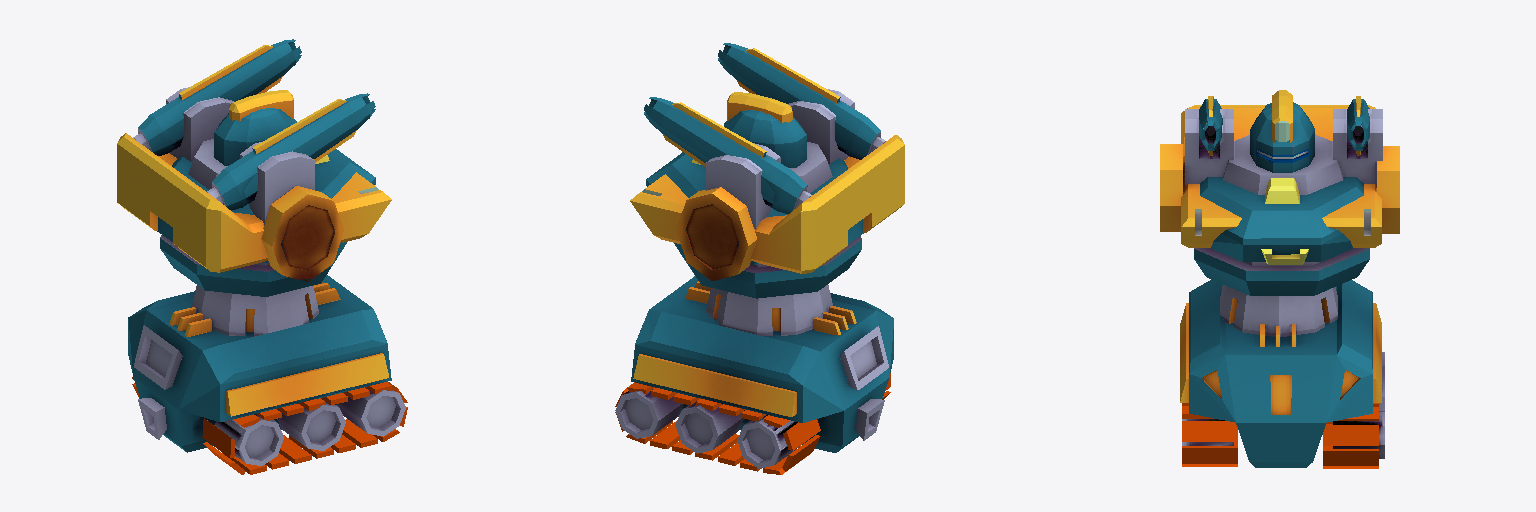
3 views of the same model, side by side, from view 1: azimuth 30°, elevation 25°; view 2: azimuth 150°, elevation 25°; view 3: azimuth 270°, elevation 25° (orthographic).
Parts seen in each view (by area): view 1: Object004, Object008, Object014, Box009, Box017; view 2: Object004, Object008, Object014, Box009, Box016; view 3: Object004, Object008, Box016, Box017, Object014, Box009.
Boxes of the visible parts, <box> form: Object004: <box>117,87,391,296</box>; Object008: <box>128,275,391,452</box>; Object014: <box>133,39,375,210</box>; Box009: <box>215,390,405,465</box>; Box017: <box>202,382,407,474</box>; Object004: <box>630,89,904,298</box>; Object008: <box>631,276,893,452</box>; Object014: <box>644,43,885,213</box>; Box009: <box>615,389,799,468</box>; Box016: <box>615,382,820,474</box>; Object004: <box>1160,90,1399,295</box>; Object008: <box>1180,280,1381,467</box>; Box016: <box>1323,403,1378,468</box>; Box017: <box>1182,403,1237,466</box>; Object014: <box>1199,96,1369,155</box>; Box009: <box>1182,352,1384,458</box>.
Bounding box in the file's own units: 54.79 × 81.79 × 52.49.
Materials: 2 (1 with a texture image).